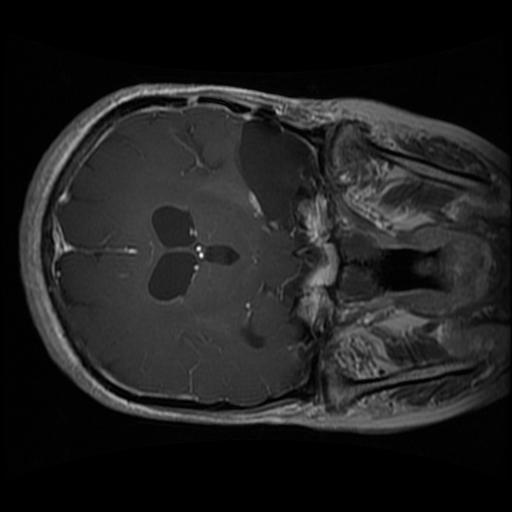glioma: (231, 117, 317, 236)
